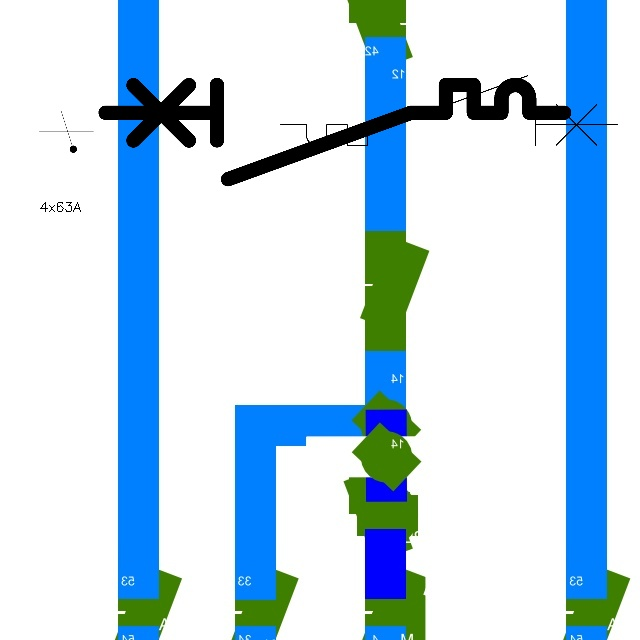interruptor_termomagnetico: (93, 73, 575, 191), (272, 67, 626, 154)
